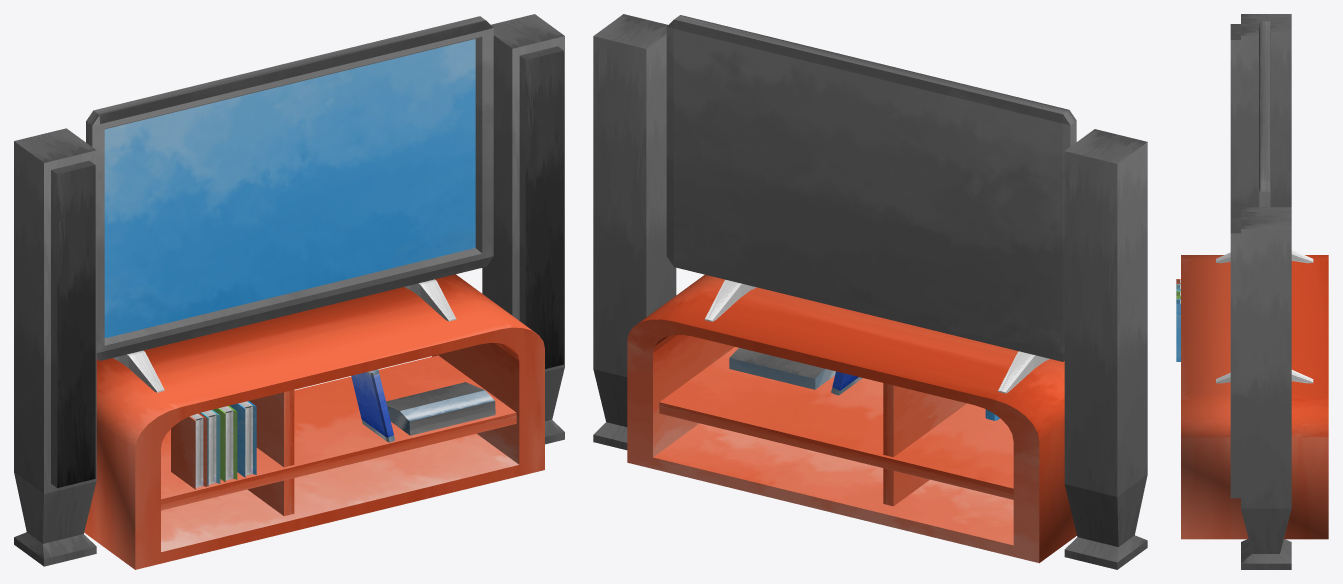
Rendered from Obj_TVStation.gltf.
3 views of the same model, side by side, from view 1: azimuth 30°, elevation 25°; view 2: azimuth 150°, elevation 25°; view 3: azimuth 270°, elevation 25° (orthographic). The views are drawn at different scales.
Parts seen in each view (by area): view 1: Obj_TVStation; view 2: Obj_TVStation; view 3: Obj_TVStation.
Boxes of the visible parts, x1,y1,x2,y2 form: Obj_TVStation: [14, 14, 564, 569]; Obj_TVStation: [593, 14, 1147, 569]; Obj_TVStation: [1176, 14, 1328, 569].
Size of what is drawn, in the model's own units: 3.88 by 3.04 by 1.16.
Materials: 1 (1 with a texture image).
